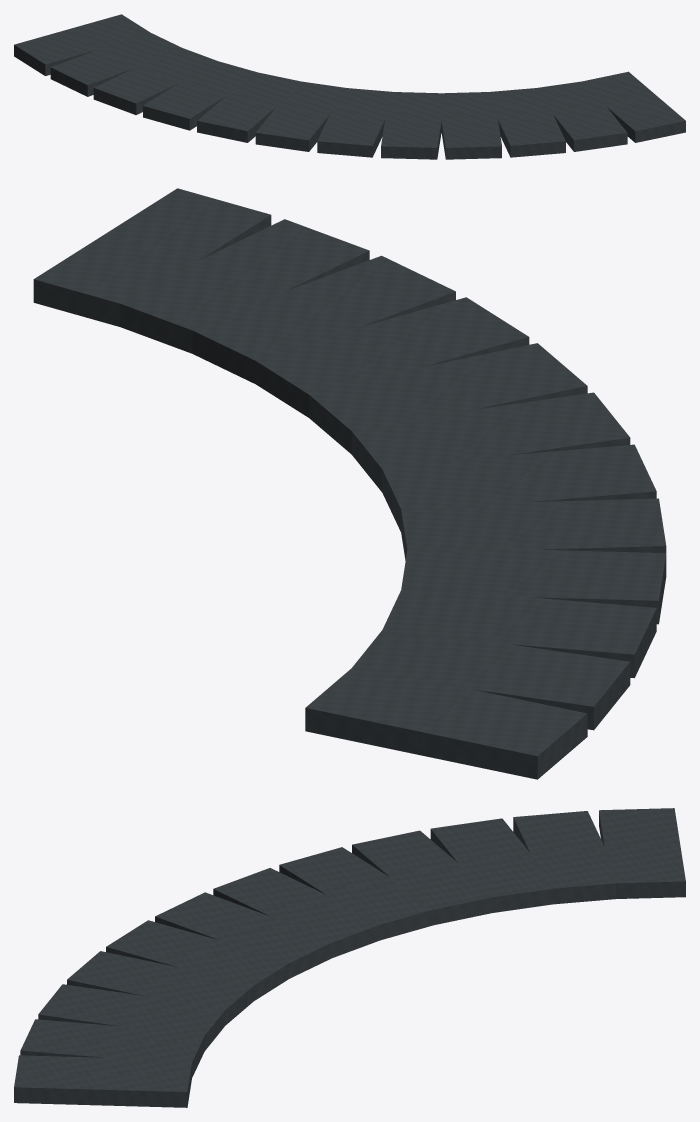
Rendered from Rail_Curve90_R3_Collision.glb.
3 renders of one model, top to bottom at view 1: azimuth 30°, elevation 25°; view 2: azimuth 150°, elevation 25°; view 3: azimuth 270°, elevation 25°, orthographic. The views are drawn at different scales.
Parts seen in each view (by area): view 1: COL_TrackBed_09, COL_TrackBed_11, COL_TrackBed_03, COL_TrackBed_07, COL_TrackBed_06, COL_TrackBed_10, COL_TrackBed_04, COL_TrackBed_02, COL_TrackBed_05, COL_TrackBed_00, COL_TrackBed_01, COL_TrackBed_08; view 2: COL_TrackBed_00, COL_TrackBed_11, COL_TrackBed_10, COL_TrackBed_09, COL_TrackBed_07, COL_TrackBed_08, COL_TrackBed_02, COL_TrackBed_01, COL_TrackBed_05, COL_TrackBed_06, COL_TrackBed_03, COL_TrackBed_04; view 3: COL_TrackBed_11, COL_TrackBed_00, COL_TrackBed_01, COL_TrackBed_02, COL_TrackBed_03, COL_TrackBed_06, COL_TrackBed_04, COL_TrackBed_05, COL_TrackBed_07, COL_TrackBed_09, COL_TrackBed_10, COL_TrackBed_08.
Boxes of the visible parts, box(x1,y1,x2,y2) form: COL_TrackBed_09: box(485, 87, 565, 157); COL_TrackBed_11: box(578, 71, 685, 142); COL_TrackBed_03: box(143, 60, 261, 130); COL_TrackBed_07: box(381, 91, 445, 159); COL_TrackBed_06: box(317, 87, 391, 157); COL_TrackBed_10: box(538, 81, 627, 151); COL_TrackBed_04: box(197, 73, 304, 142); COL_TrackBed_02: box(93, 47, 220, 114); COL_TrackBed_05: box(255, 81, 345, 151); COL_TrackBed_00: box(14, 14, 152, 75); COL_TrackBed_01: box(50, 31, 180, 96); COL_TrackBed_08: box(441, 92, 501, 159); COL_TrackBed_00: box(305, 665, 587, 779); COL_TrackBed_11: box(33, 188, 271, 326); COL_TrackBed_10: box(114, 219, 369, 353); COL_TrackBed_09: box(188, 255, 455, 384); COL_TrackBed_07: box(305, 343, 587, 454); COL_TrackBed_08: box(251, 297, 529, 417); COL_TrackBed_02: box(381, 586, 656, 678); COL_TrackBed_01: box(349, 626, 630, 730); COL_TrackBed_05: box(381, 444, 656, 531); COL_TrackBed_06: box(351, 392, 630, 492); COL_TrackBed_03: box(401, 546, 666, 624); COL_TrackBed_04: box(401, 498, 666, 560); COL_TrackBed_11: box(14, 1055, 191, 1107); COL_TrackBed_00: box(599, 808, 685, 898); COL_TrackBed_01: box(513, 811, 620, 904); COL_TrackBed_02: box(430, 818, 552, 912); COL_TrackBed_03: box(352, 830, 494, 924); COL_TrackBed_06: box(155, 892, 335, 978); COL_TrackBed_04: box(279, 847, 433, 939); COL_TrackBed_05: box(213, 868, 380, 958); COL_TrackBed_07: box(106, 920, 289, 1000); COL_TrackBed_09: box(38, 984, 226, 1050); COL_TrackBed_10: box(20, 1019, 205, 1077); COL_TrackBed_08: box(67, 951, 253, 1025).
Size of the model in its own units: 3.48 by 0.09 by 3.48.
1 material, 1 textured.
